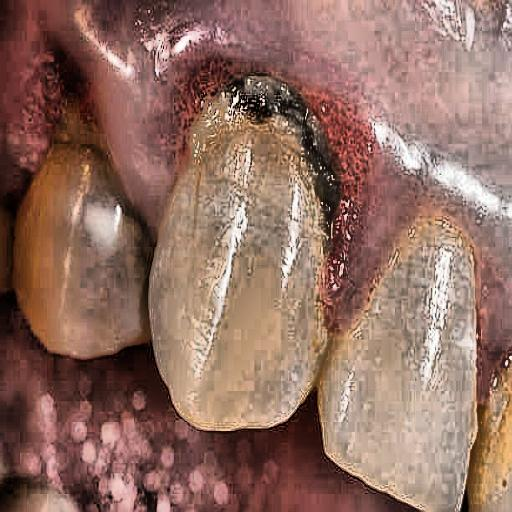Calculus: (173, 29, 350, 261)
